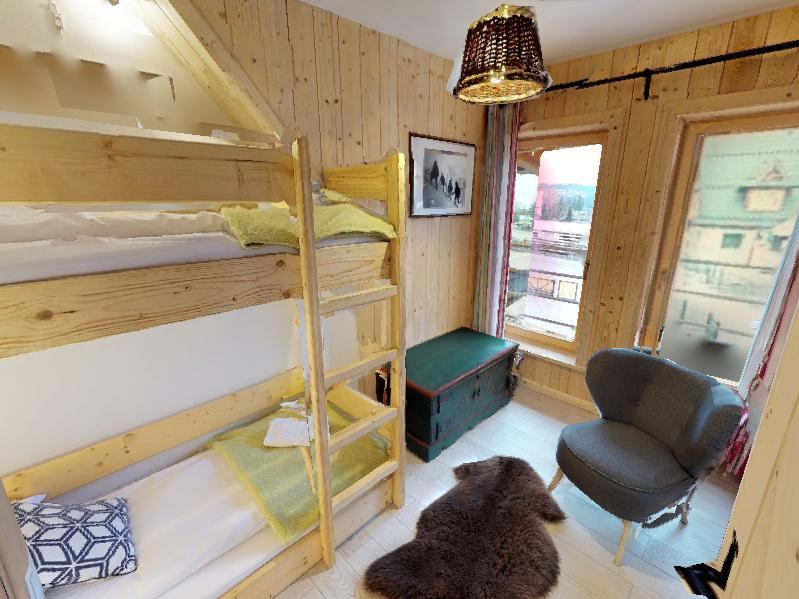bed: (0, 372, 439, 599)
sofa: (551, 331, 741, 570)
